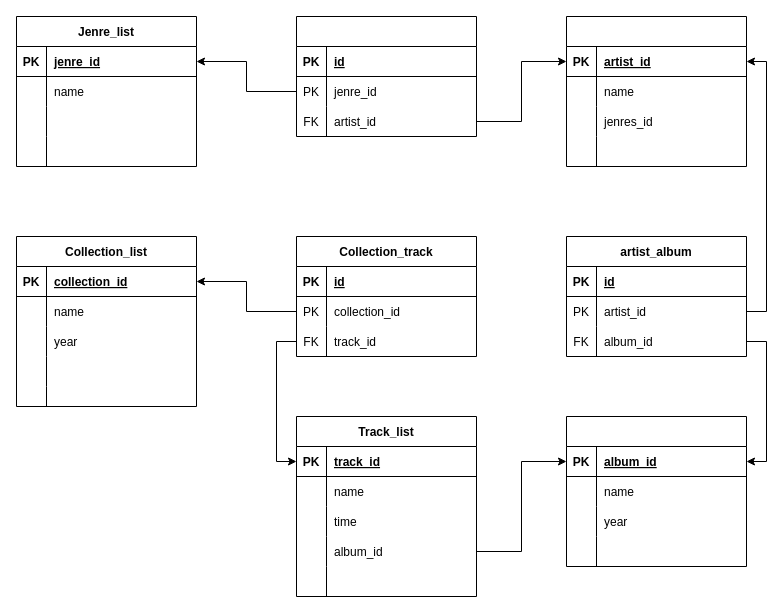
Image size: 783x613. Some labels were removed from this diagram. The shapes that lost their labels are listed below. From the top down, each one's box as (x1, y1, x2, y2) in pixels, then its label:
(296, 16, 476, 136): Jenre_artist
(566, 16, 746, 166): Artist_list
(566, 416, 746, 566): Album_list
